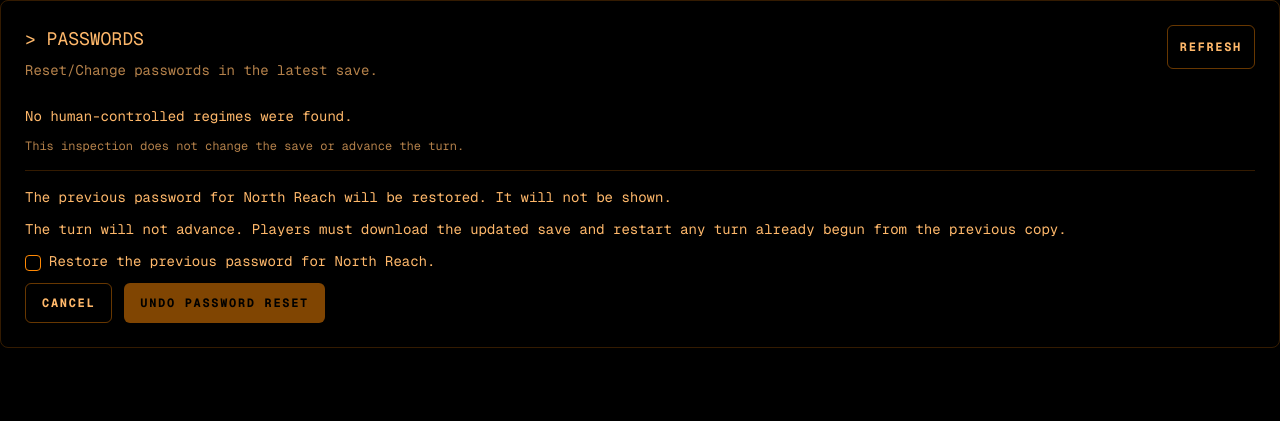
Test: keeps malformed or uncorrelated undo outcomes unknown even when fresh recovery is available (0)
Click the checkbox named "Restore the previous password for North Reach." at [33, 263], box [25,255,41,271]
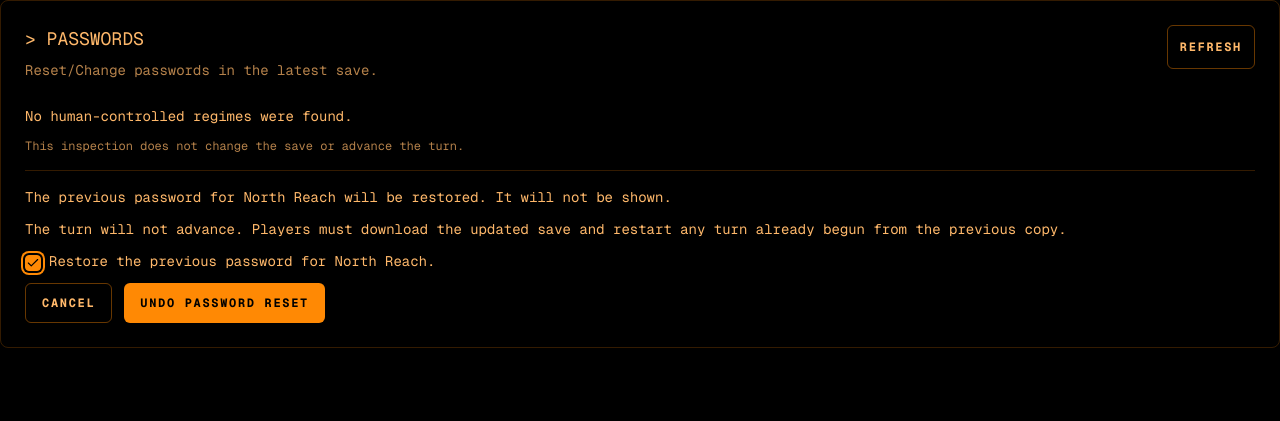
Click the button "Undo password reset" at [225, 303], box [124,283,325,323]
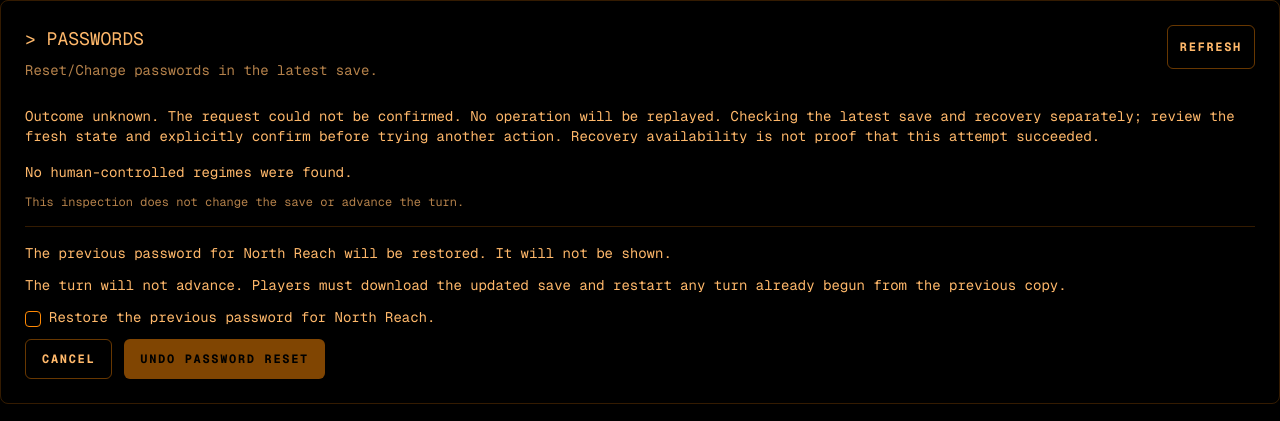
Result: the checkbox named "Restore the previous password for North Reach." is not checked at [25,311,41,327]
Result: the message shows "Outcome unknown" at [25,107,1235,145]
Result: the button "Undo password reset" is disabled at [124,339,325,379]
